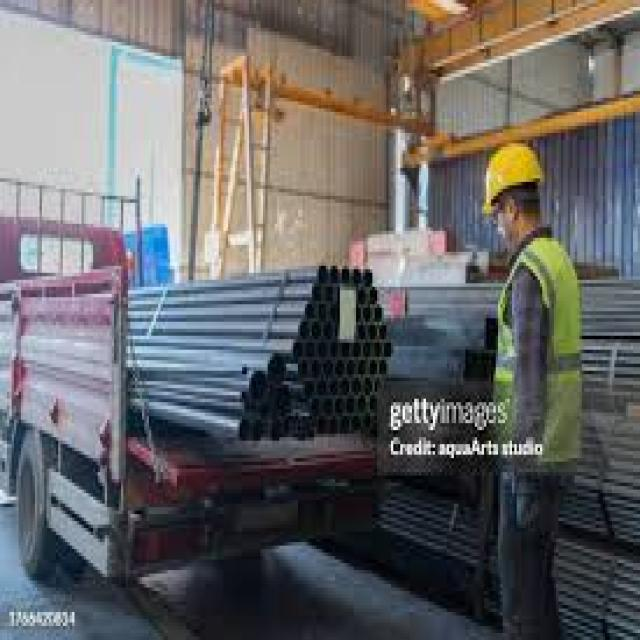uncovered: (1, 178, 388, 602)
